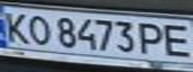3: (112, 18, 139, 54)
4: (75, 16, 96, 51)
7: (93, 16, 118, 52)
8: (51, 15, 78, 48)
E: (157, 20, 193, 60)
K: (0, 9, 33, 44)
O: (21, 12, 54, 46)
P: (136, 20, 169, 56)
